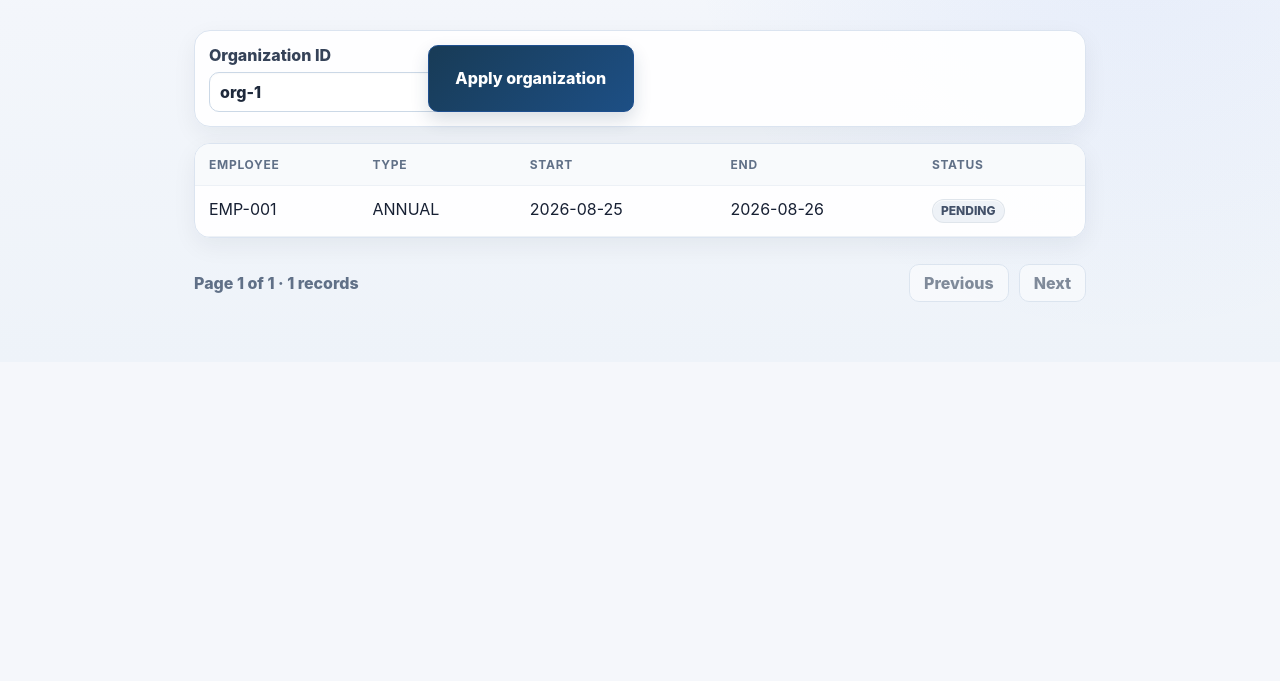
Scenario: LeavePage › shows pending actions only while the request is actionable
This screenshot has width=1280, height=681.
Click the text "ANNUAL".
click(437, 211)  # box [358,185,516,236]
(page scrolled)
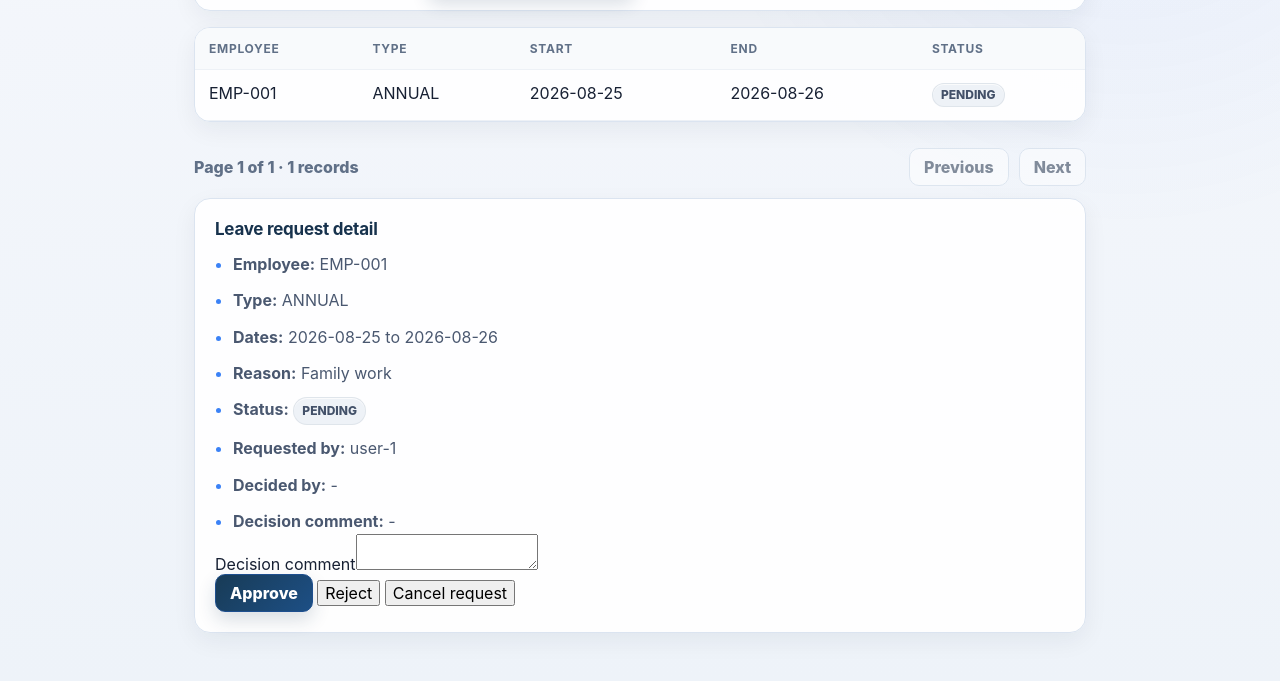
expect the button "Approve" is shown: met, box [215,574,313,612]
expect the button "Reject" is shown: met, box [317,580,380,606]
expect the button "Cancel request" is shown: met, box [385,580,515,606]
Type "Approved" into the text box labelled "Decision comment".
click(446, 552); type("Approved")  # box [356,534,538,570]
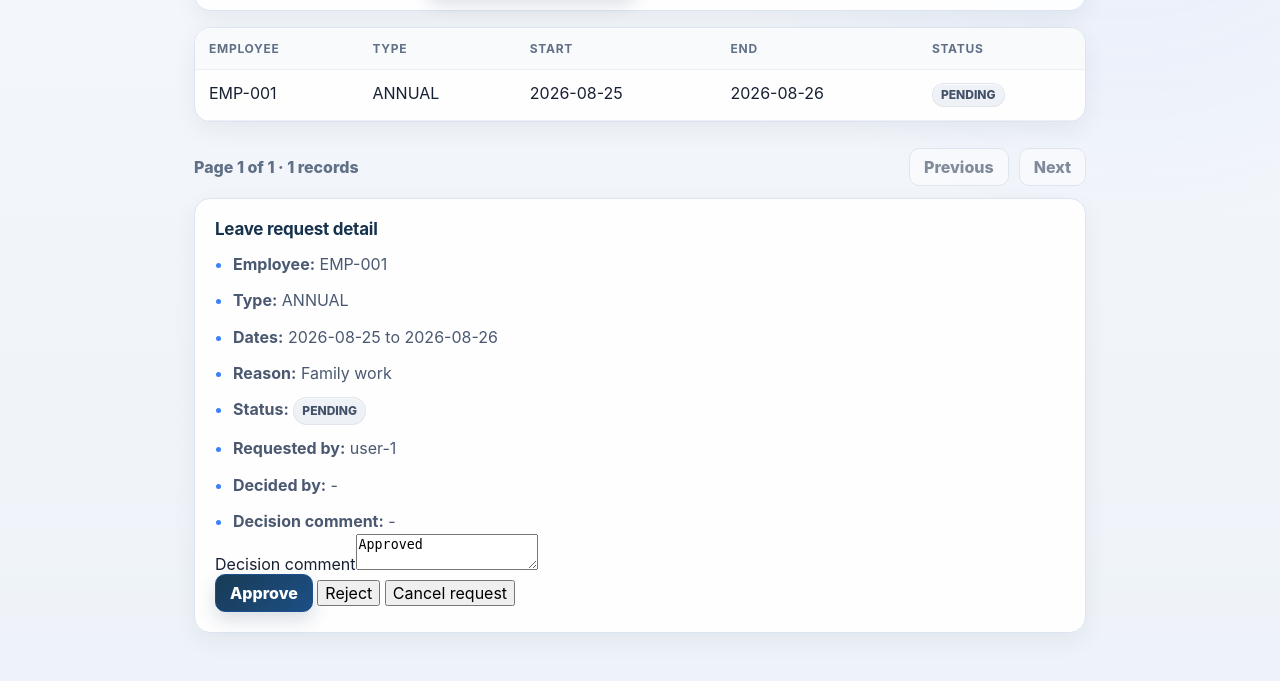
Click the button "Approve".
click(264, 593)  # box [215,574,313,612]
(page scrolled)
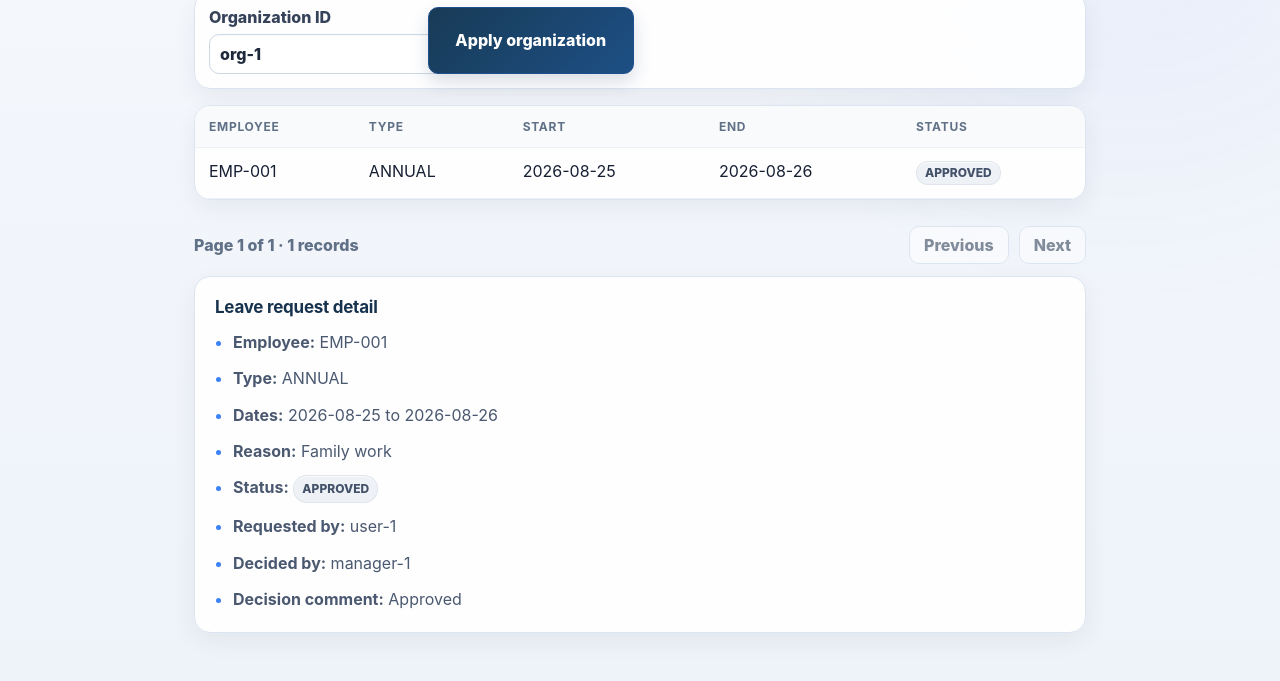
expect the button "Reject" is gone: met
expect the button "Cancel request" is gone: met
expect the text "APPROVED" below "End" is shown: met, box [925,165,992,180]
